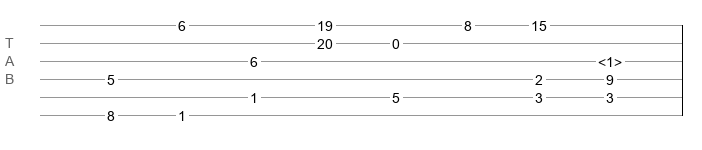0: (392, 36, 400, 46)
1: (178, 108, 186, 118), (250, 90, 258, 100)
15: (531, 18, 547, 28)
19: (317, 18, 333, 28)
2: (535, 72, 543, 82)
20: (317, 36, 333, 46)
3: (535, 90, 543, 100), (606, 90, 614, 100)
5: (107, 72, 115, 82), (392, 90, 400, 100)
6: (178, 18, 186, 28), (250, 54, 258, 64)
8: (107, 108, 115, 118), (464, 18, 472, 28)
9: (606, 72, 614, 82)
harmonic: (598, 54, 622, 64)
